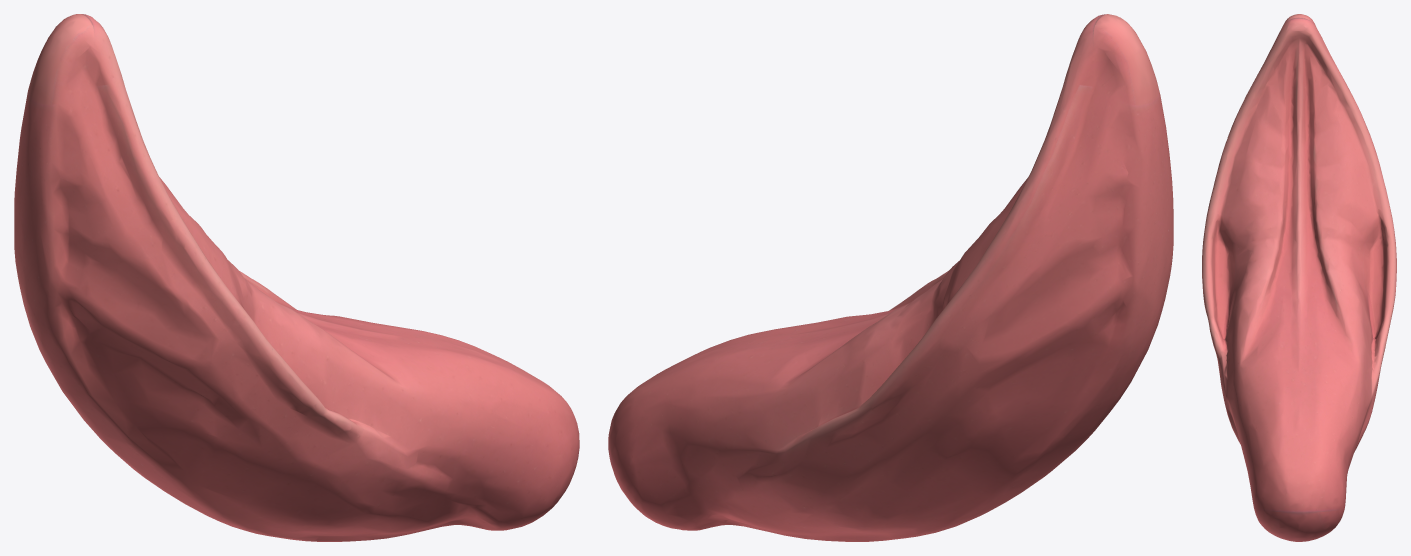
Rendered from Part_Epiglottis.glb.
3 views of the same model, side by side, from view 1: azimuth 30°, elevation 25°; view 2: azimuth 150°, elevation 25°; view 3: azimuth 270°, elevation 25° (orthographic). The views are drawn at different scales.
Bounding box in the file's own units: 1.79 × 1.9 × 0.8567.
1 material, 1 textured.
